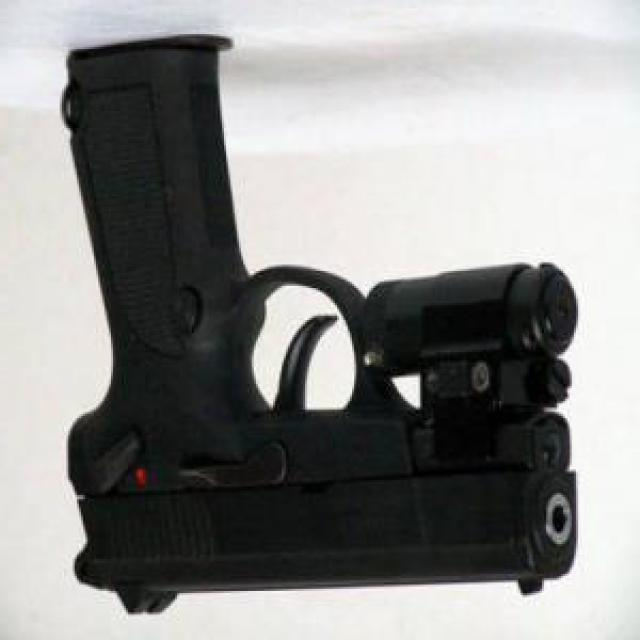pistol: (63, 39, 580, 616)
